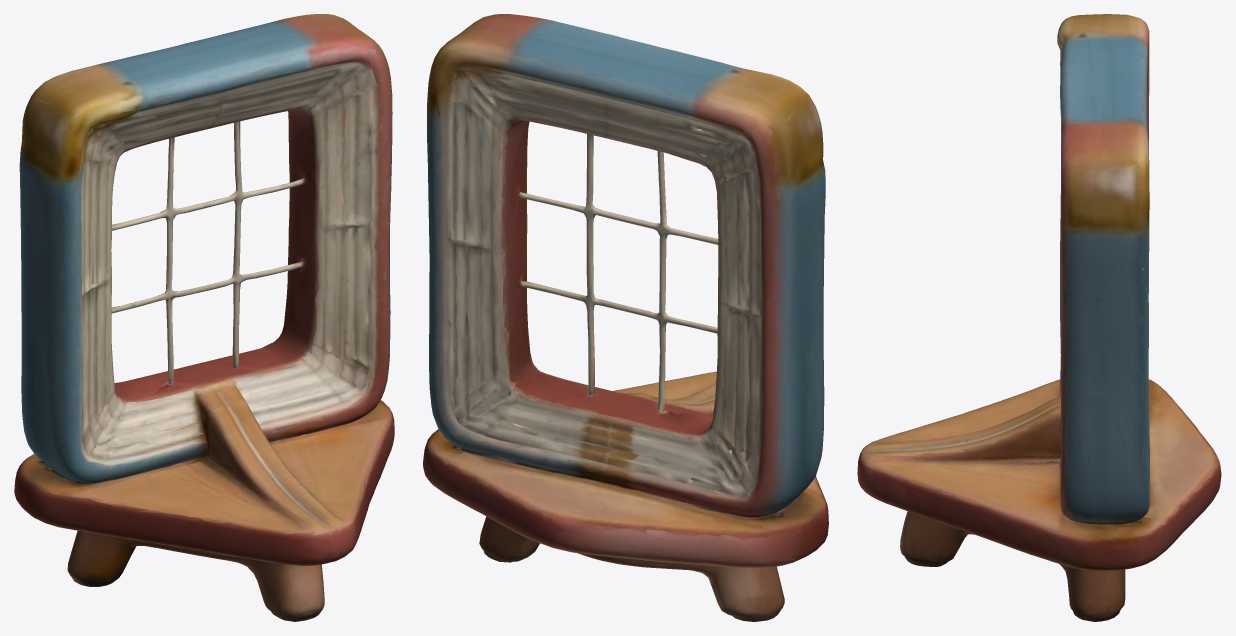
The model's file is sc-vanishing-frame.glb.
3 renders of one model, left to right at view 1: azimuth 30°, elevation 25°; view 2: azimuth 150°, elevation 25°; view 3: azimuth 270°, elevation 25°, orthographic. The views are drawn at different scales.
Visible parts, largest first — view 1: geometry_0; view 2: geometry_0; view 3: geometry_0.
Part boxes in pixels (box(x1,y1,x2,y2)): geometry_0: box(14, 14, 394, 621); geometry_0: box(423, 14, 828, 621); geometry_0: box(857, 14, 1221, 621).
Size of the model in its own units: 0.7581 by 1 by 0.6893.
Materials: 1 (1 with a texture image).
